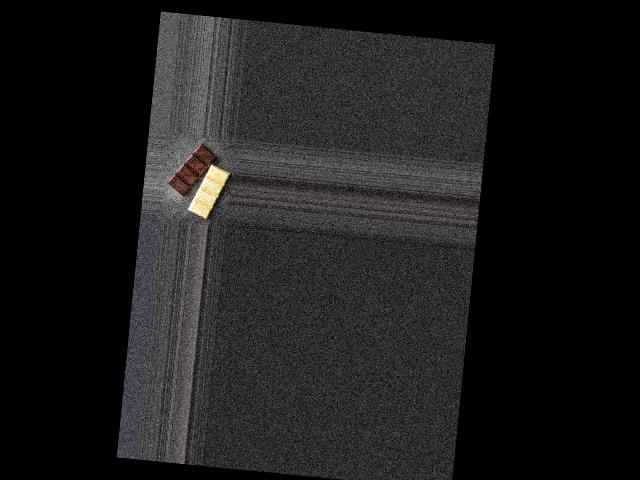chocolate: (165, 140, 232, 224)
